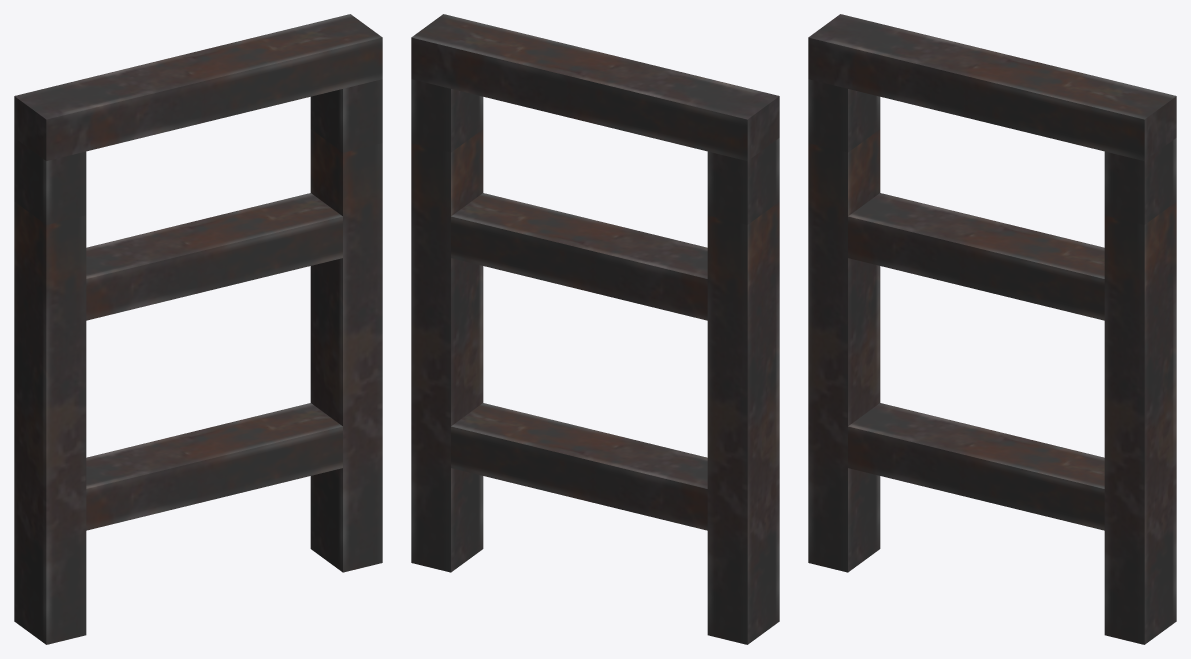
The model's file is pipe01_support02.fbx.
3 views of the same model, side by side, from view 1: azimuth 30°, elevation 25°; view 2: azimuth 150°, elevation 25°; view 3: azimuth 330°, elevation 25° (orthographic).
Visible parts, largest first — view 1: pipe01_support02; view 2: pipe01_support02; view 3: pipe01_support02.
Boxes of the visible parts, x1=… form: pipe01_support02: x1=14, y1=14, x2=382, y2=644; pipe01_support02: x1=411, y1=14, x2=779, y2=644; pipe01_support02: x1=808, y1=14, x2=1176, y2=644.
Bounding box in the file's own units: 41.9 × 62.55 × 6.95.
